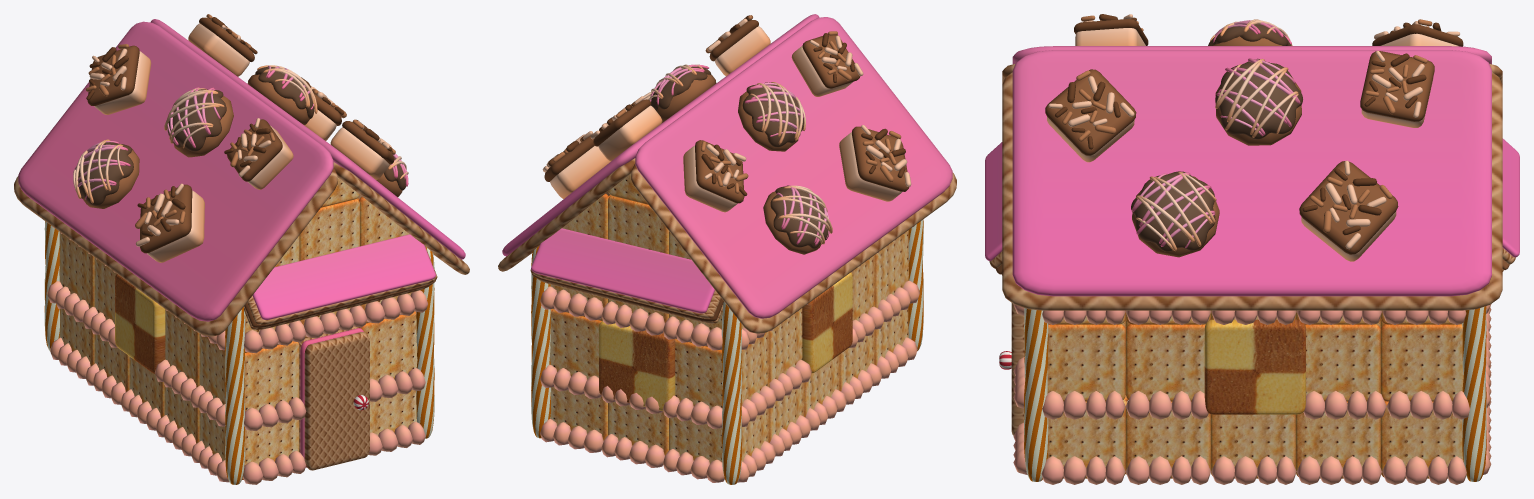
File: cw_house_8.fbx
3 renders of one model, left to right at view 1: azimuth 30°, elevation 25°; view 2: azimuth 150°, elevation 25°; view 3: azimuth 270°, elevation 25°, orthographic. The views are drawn at different scales.
Visible parts, largest first — view 1: cw_house_8; view 2: cw_house_8; view 3: cw_house_8.
Boxes of the visible parts, x1,y1,x2,y2 form: cw_house_8: [14, 14, 469, 484]; cw_house_8: [498, 14, 956, 484]; cw_house_8: [985, 14, 1519, 484].
Bounding box in the file's own units: 513 × 556 × 680.
